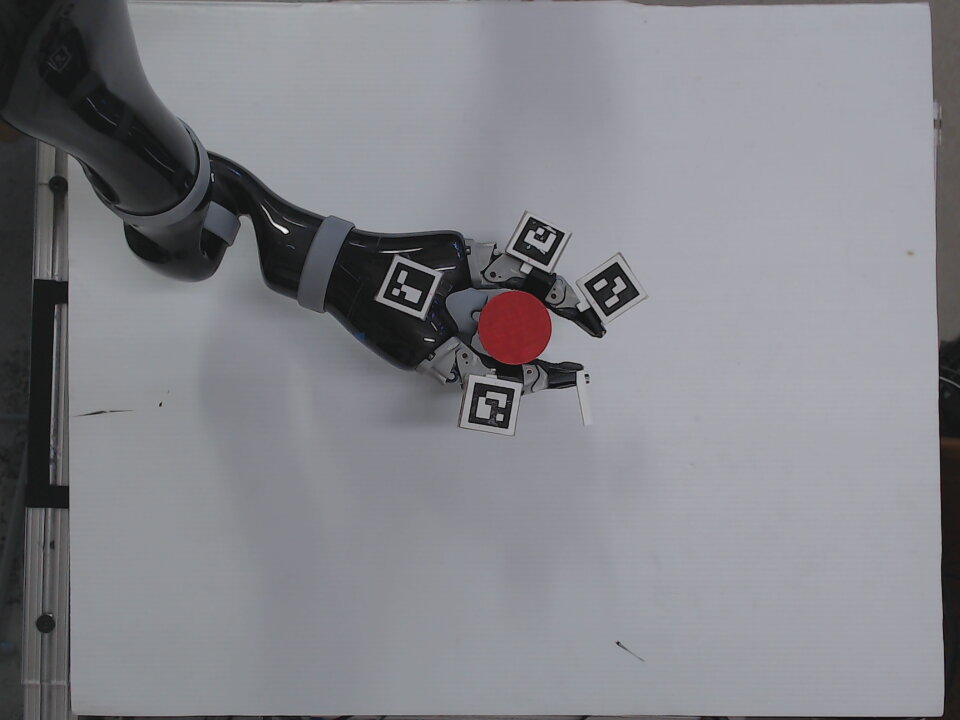cylinder: (475, 286, 555, 368)
